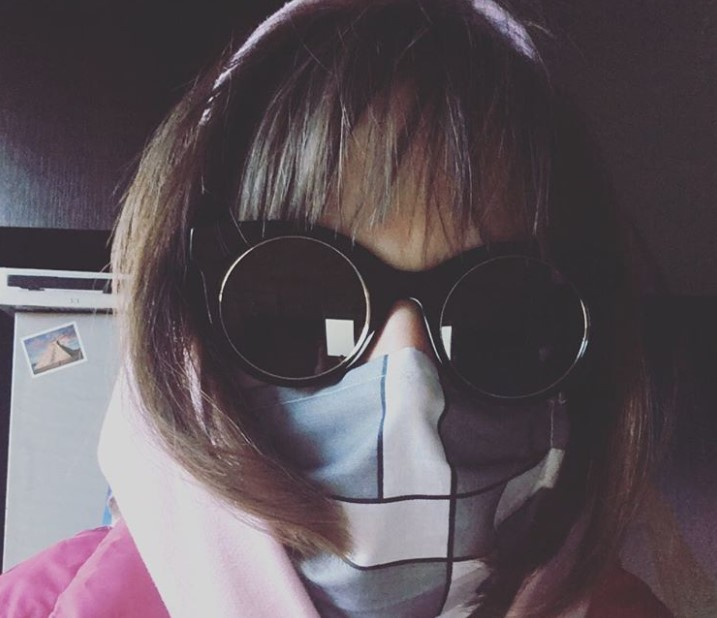face_with_mask: (146, 0, 646, 616)
